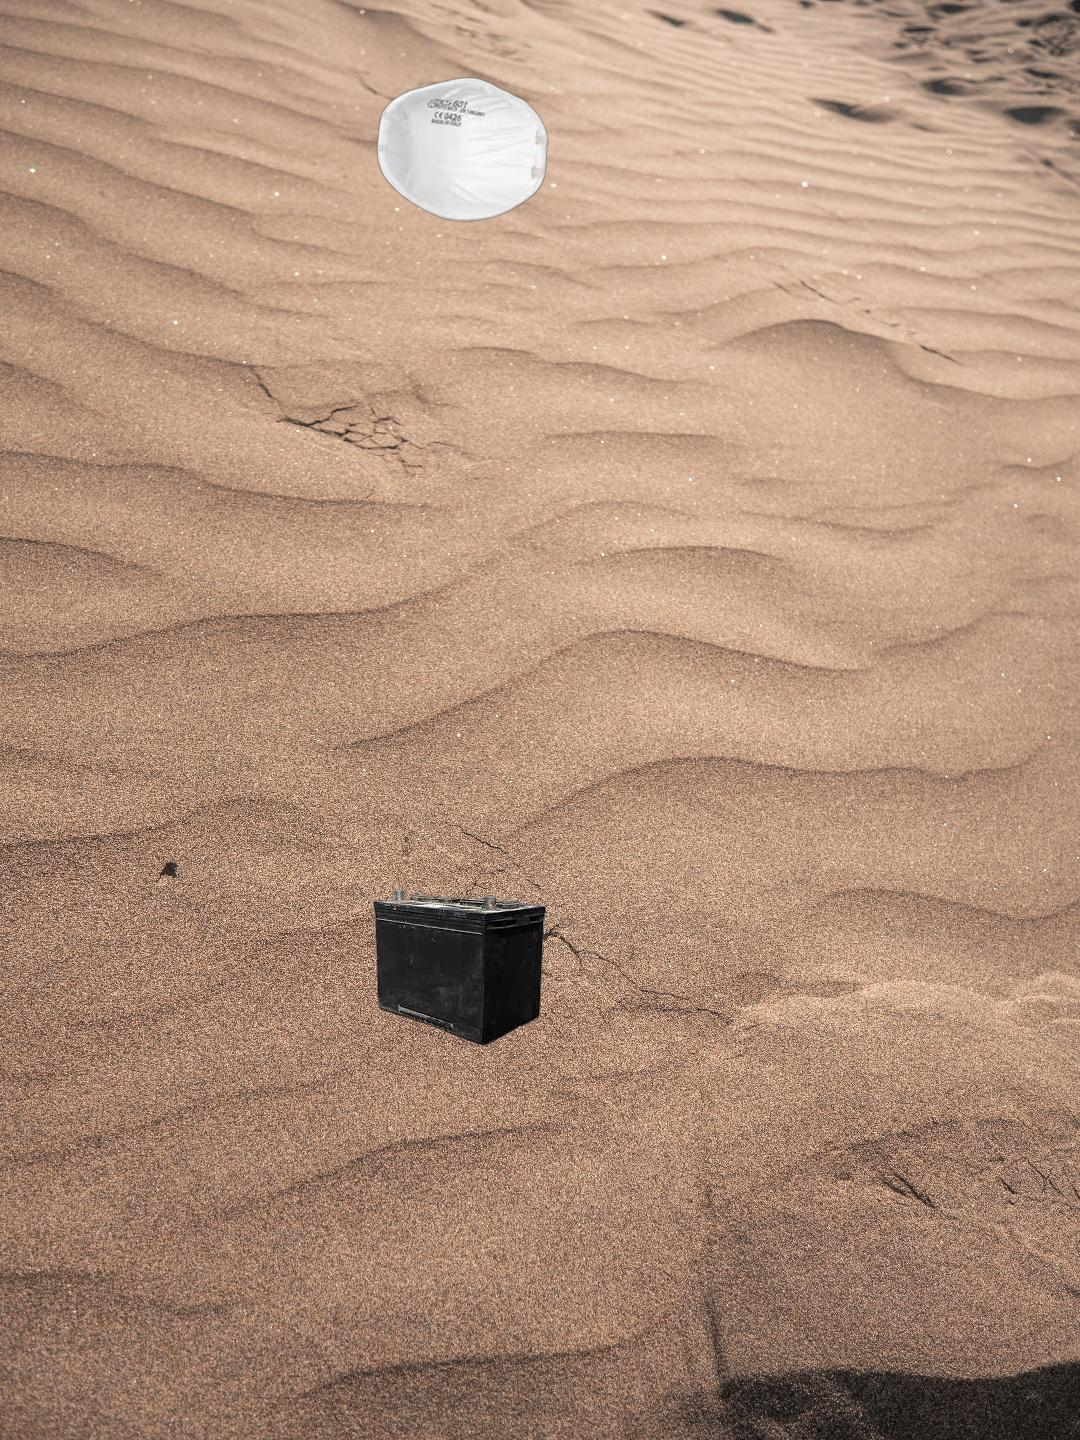battery: (371, 890, 549, 1048)
trash: (374, 75, 551, 225)
